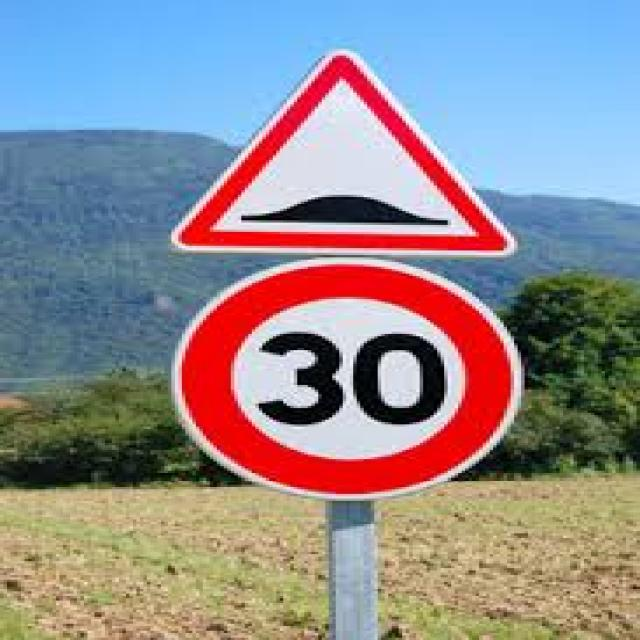speed_30: (167, 257, 519, 496)
